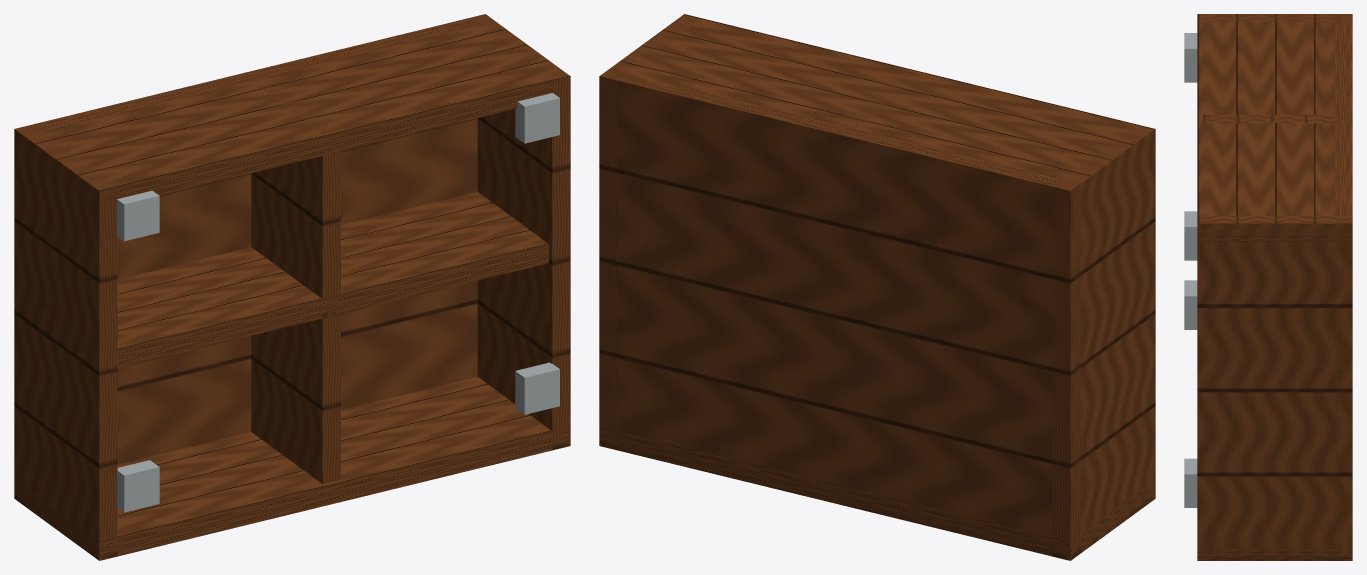
The model's file is suburban-outbreak-interiors-landing-mail-shelf-a20d0054__20019.glb.
3 views of the same model, side by side, from view 1: azimuth 30°, elevation 25°; view 2: azimuth 150°, elevation 25°; view 3: azimuth 270°, elevation 25° (orthographic). The views are drawn at different scales.
Parts seen in each view (by area): view 1: landing-mail-shelf; view 2: landing-mail-shelf; view 3: landing-mail-shelf.
Part boxes in pixels (<box>): landing-mail-shelf: <box>14,14,570,560</box>; landing-mail-shelf: <box>599,14,1155,560</box>; landing-mail-shelf: <box>1184,14,1352,560</box>.
Bounding box in the file's own units: 0.8 × 0.6 × 0.271.
2 materials, 1 textured.
